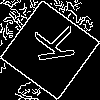K: (25, 25, 75, 66)
